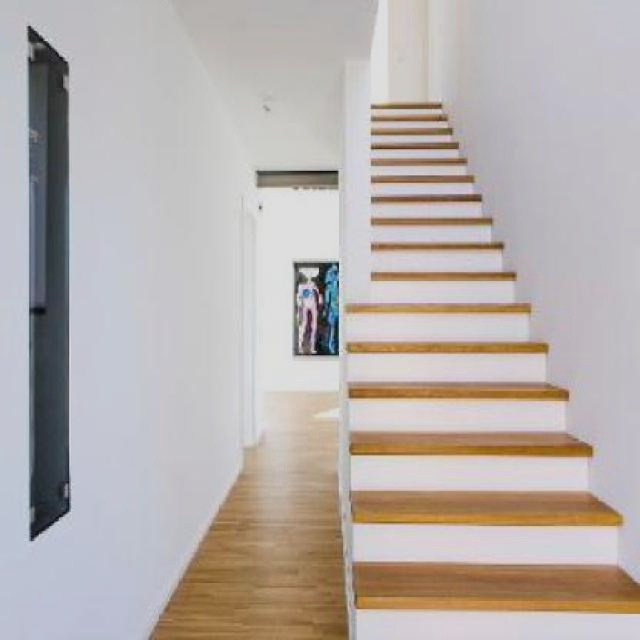stair: (338, 4, 633, 633)
